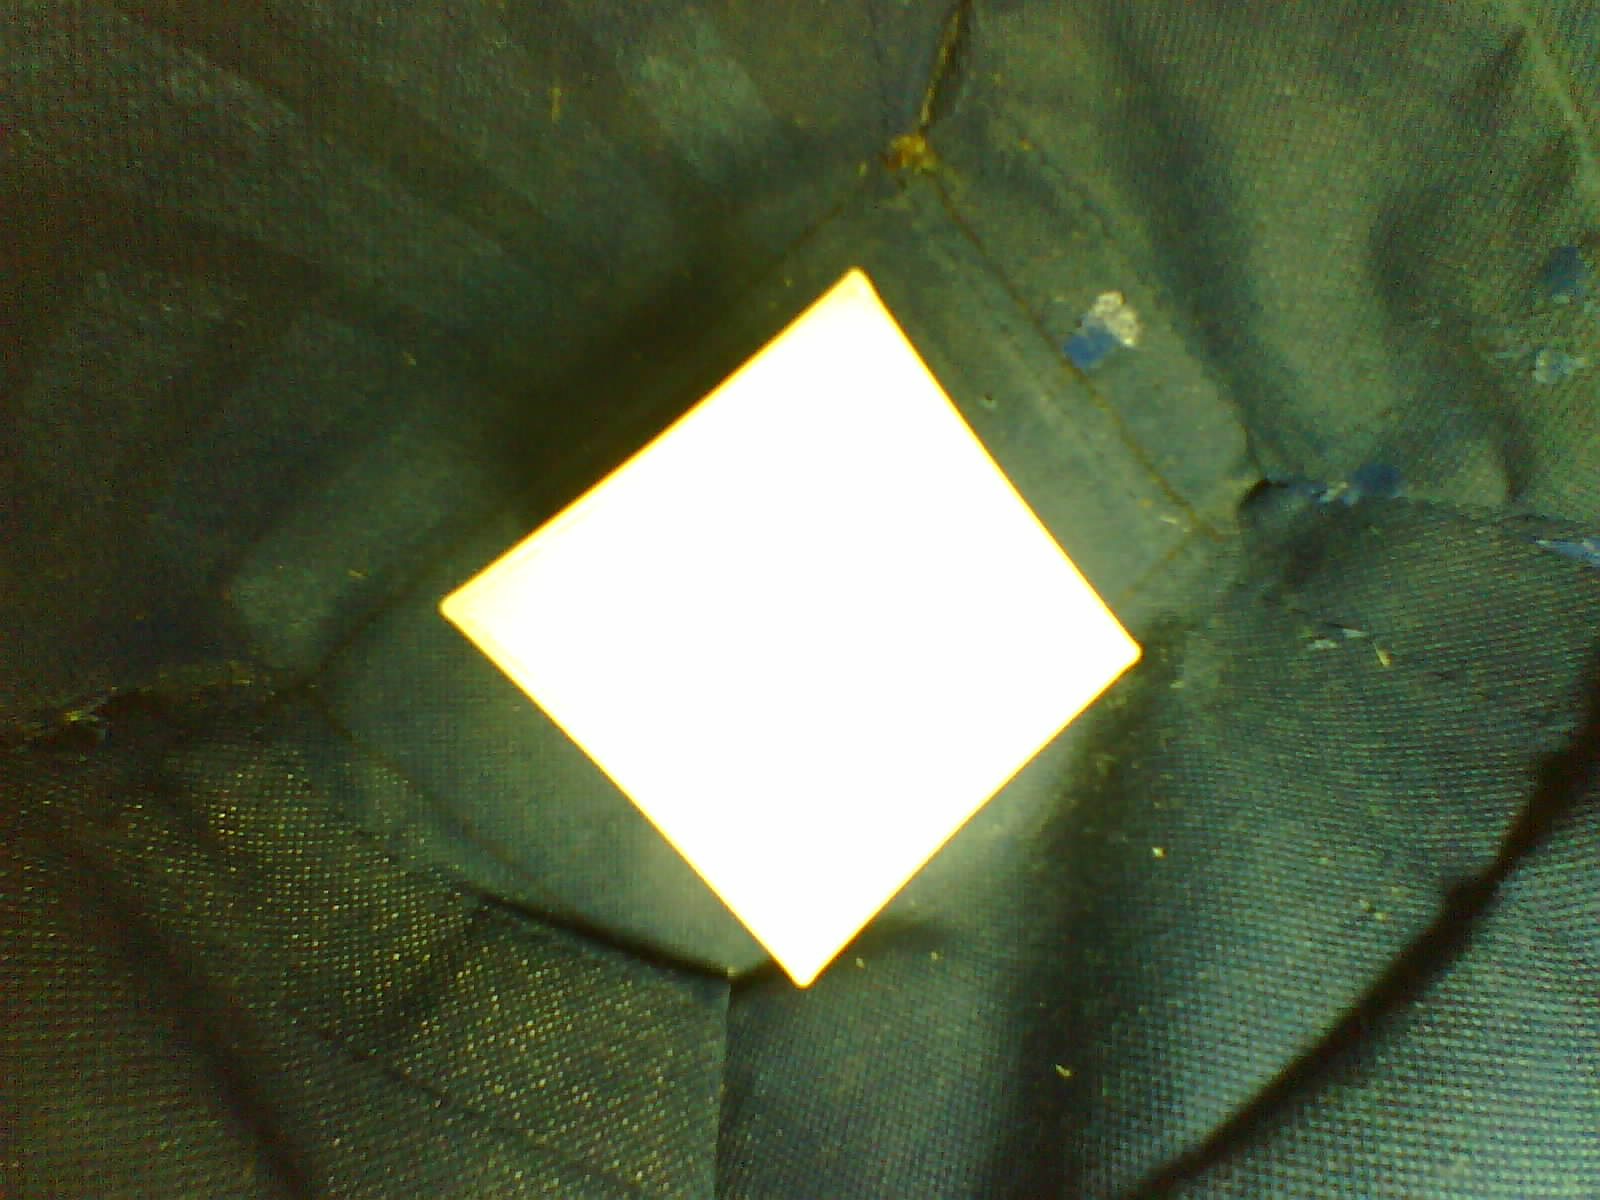cube-hard: (412, 263, 1154, 1021)
